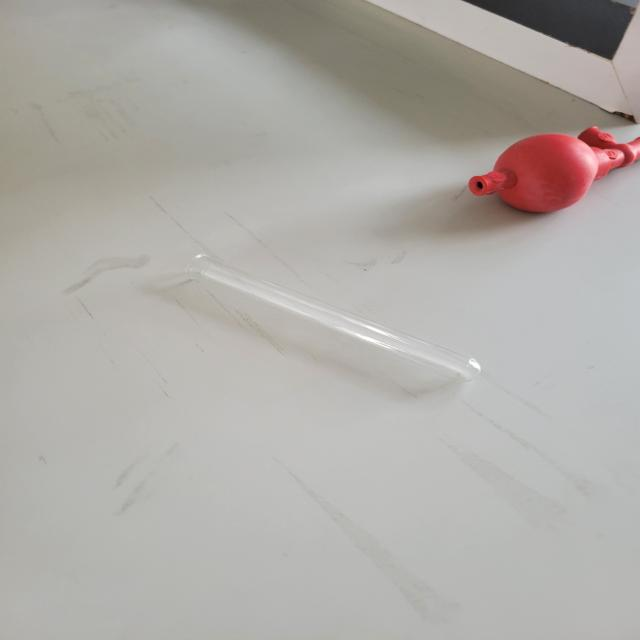Test_Tube: (174, 240, 550, 426)
